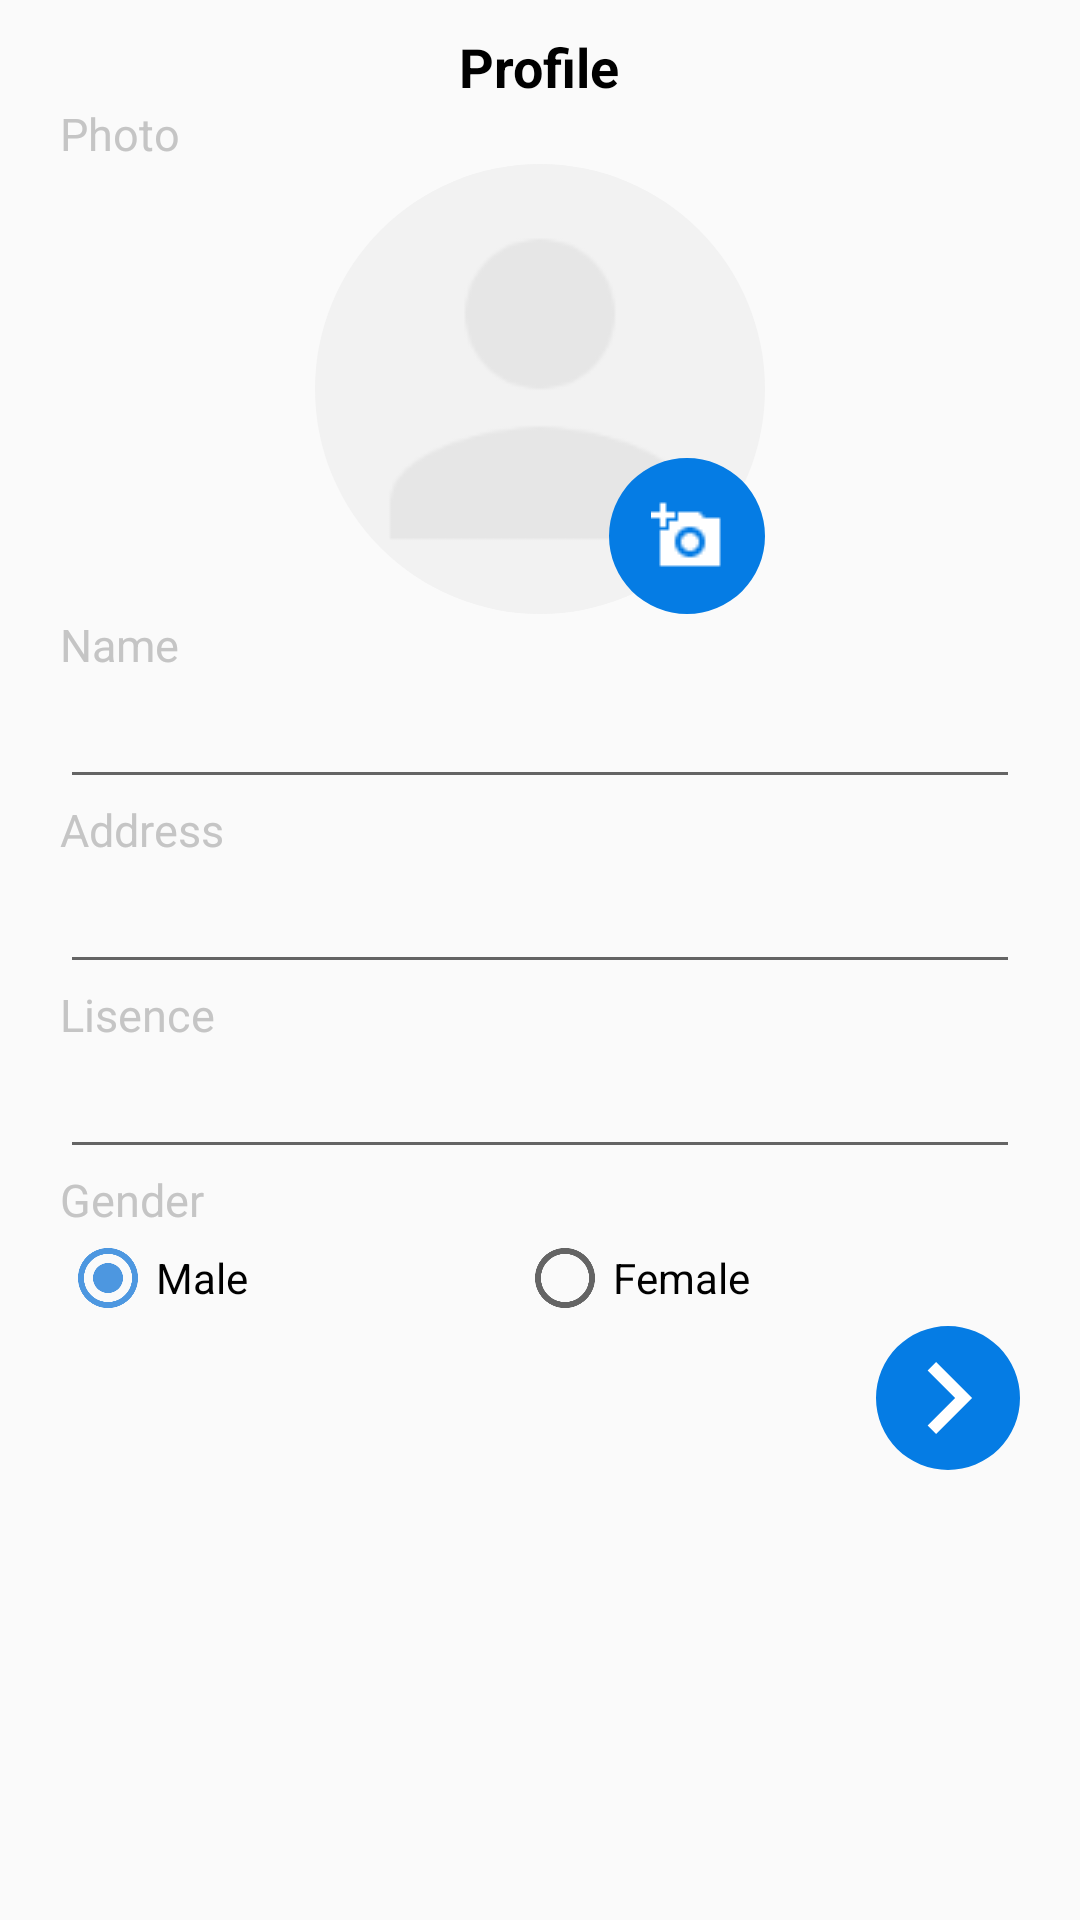

Where icons sit on this 1080×1920 app screen, as detection(x1, y1, x2, y2):
navigate next: detection(876, 1326, 1020, 1470)
